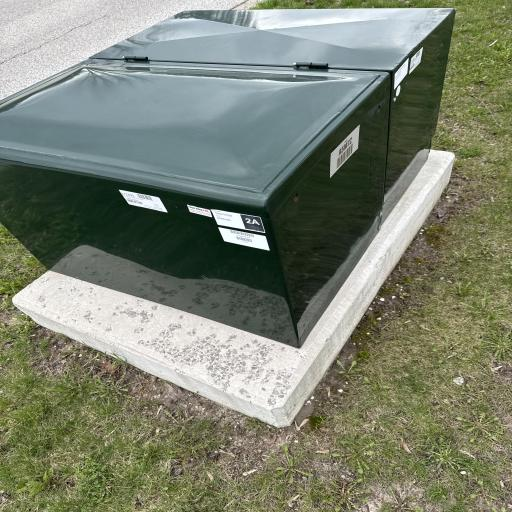Electrical Box: (0, 8, 463, 349)
